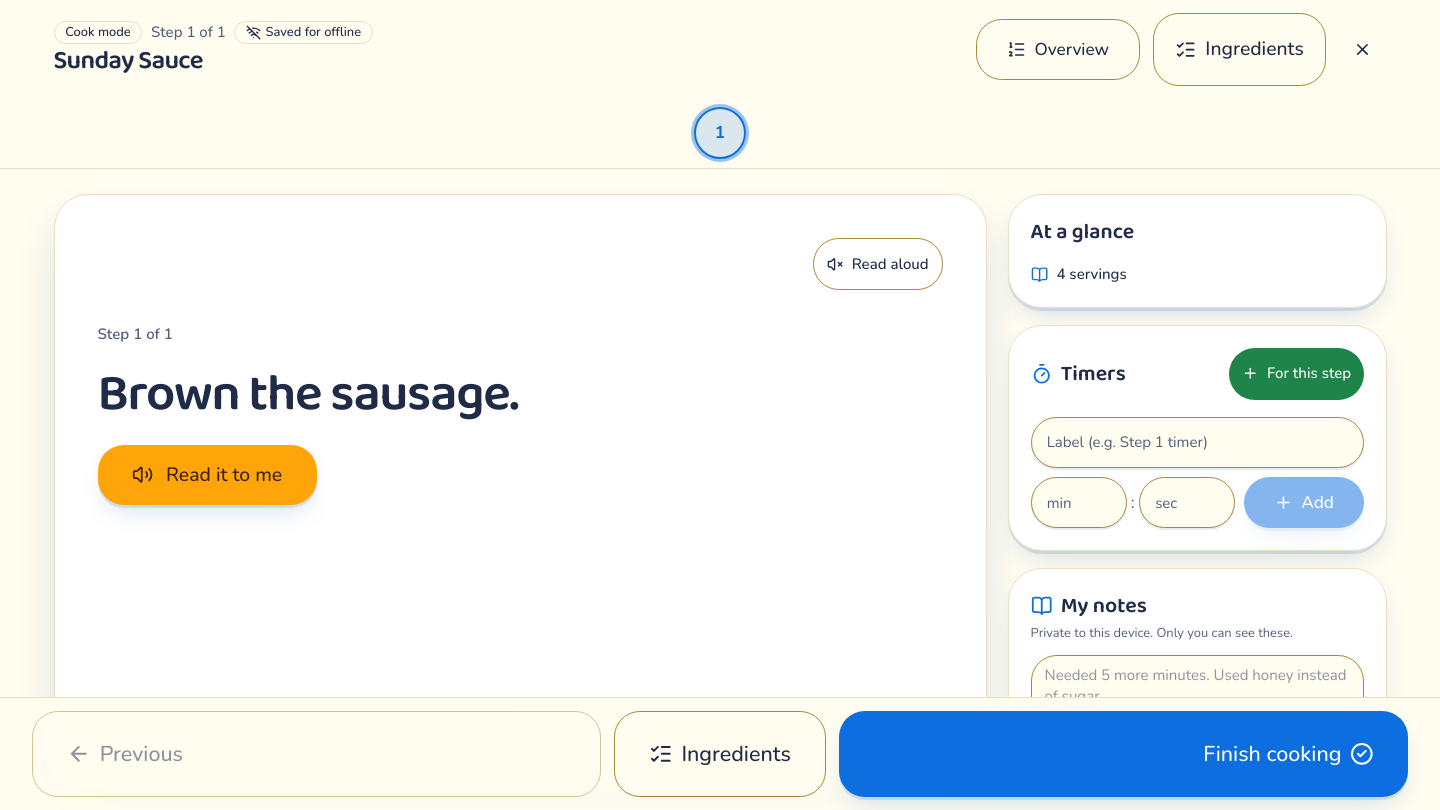
Scenario: Cook Mode completion moment (issue #437) › shows a celebratory moment instead of navigating on finish
This screenshot has width=1440, height=810.
Click the button "Finish cooking".
click(1272, 754)  # box [839, 711, 1408, 797]
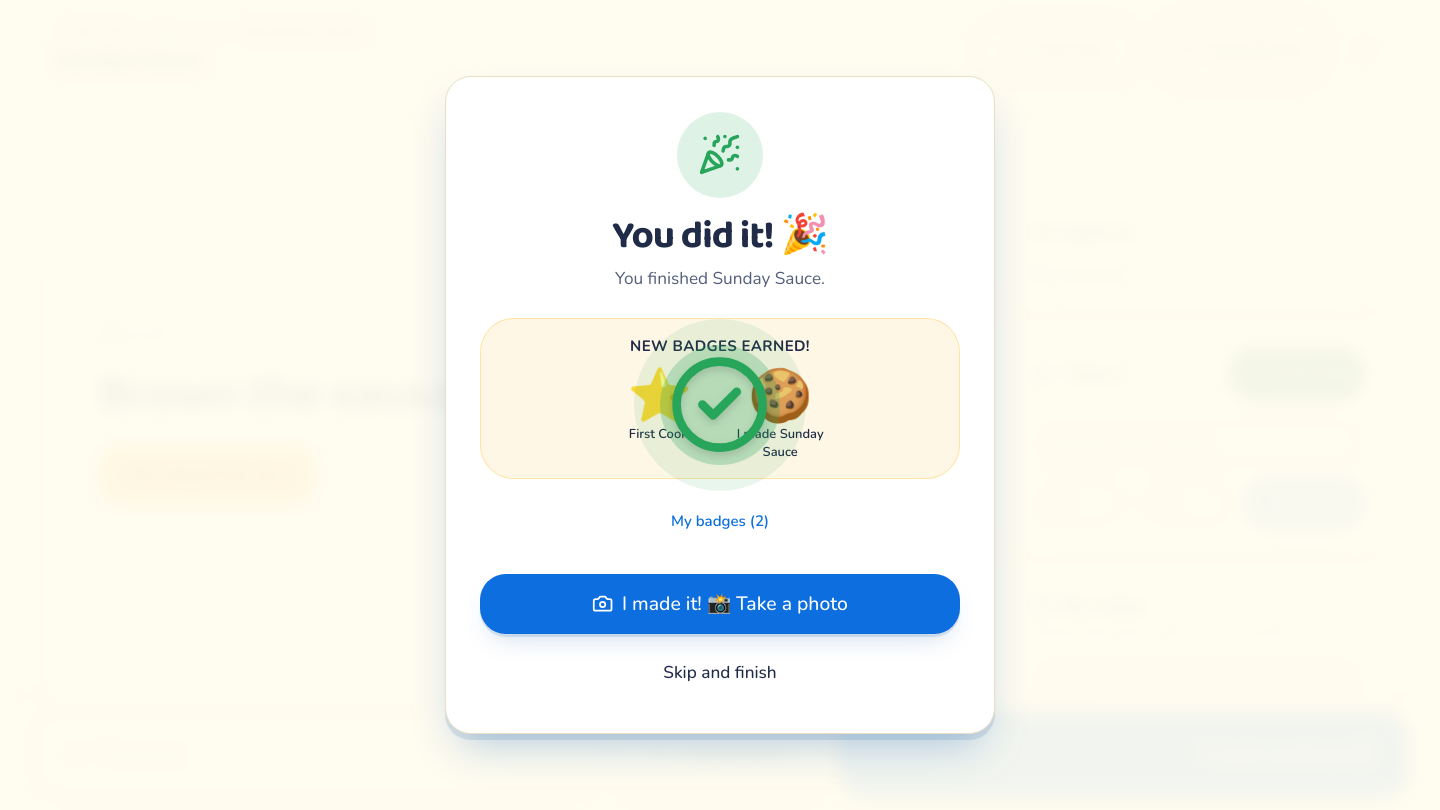
Expected: the dialog is shown
Expected: the heading "You did it! 🎉" is shown, [612, 205, 828, 267]
Expected: the button "I made it! 📸 Take a photo" is shown, [480, 574, 960, 634]
